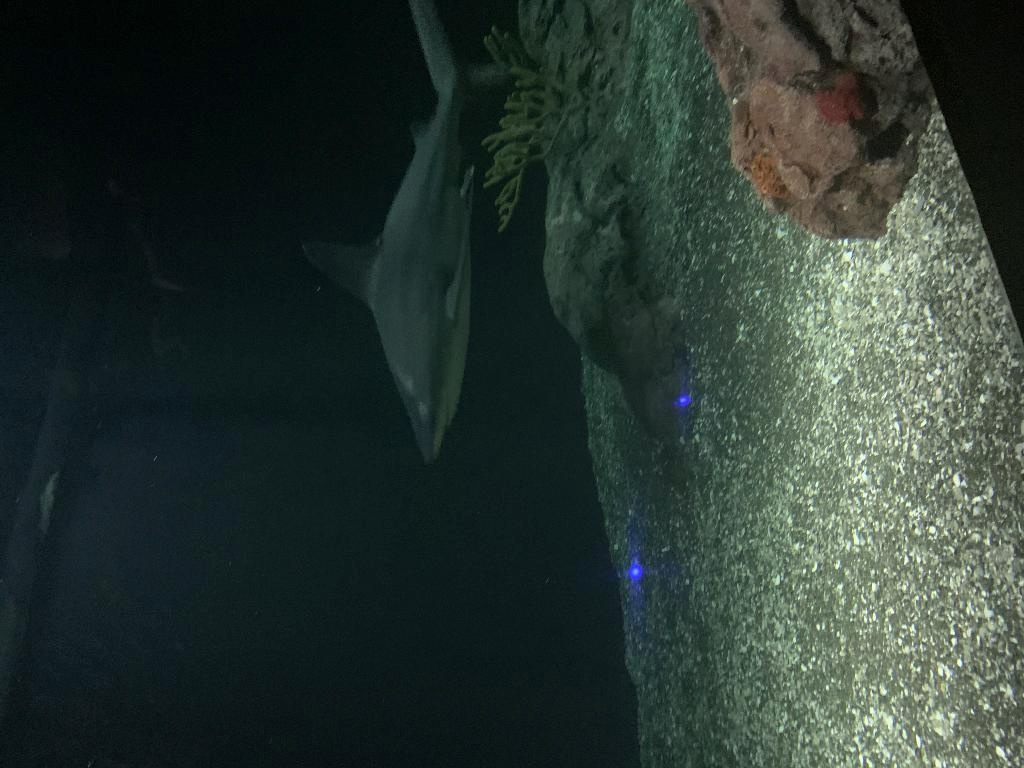shark: (297, 0, 511, 468)
